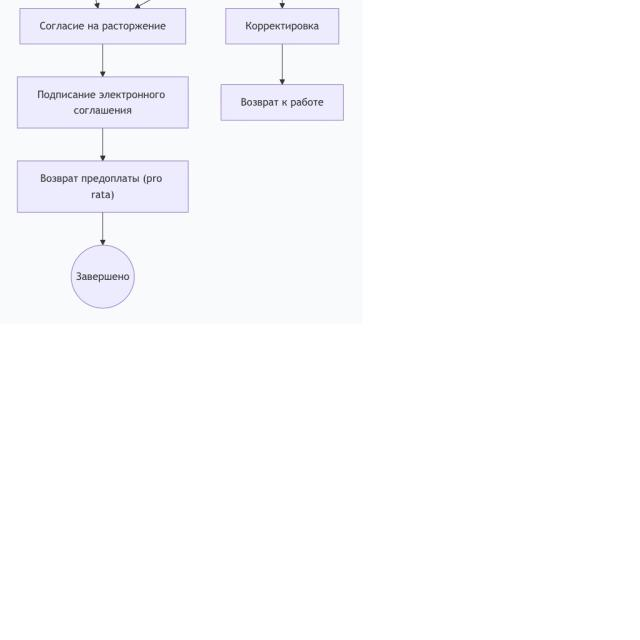arrow: (99, 45, 105, 76), (100, 213, 105, 244), (101, 129, 105, 160), (282, 45, 283, 75)
circle: (72, 245, 134, 308)
rectangle: (17, 77, 188, 128), (17, 161, 188, 212), (20, 8, 186, 44), (221, 85, 344, 121), (226, 9, 339, 44)
